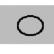no answer: (16, 14, 46, 38)
